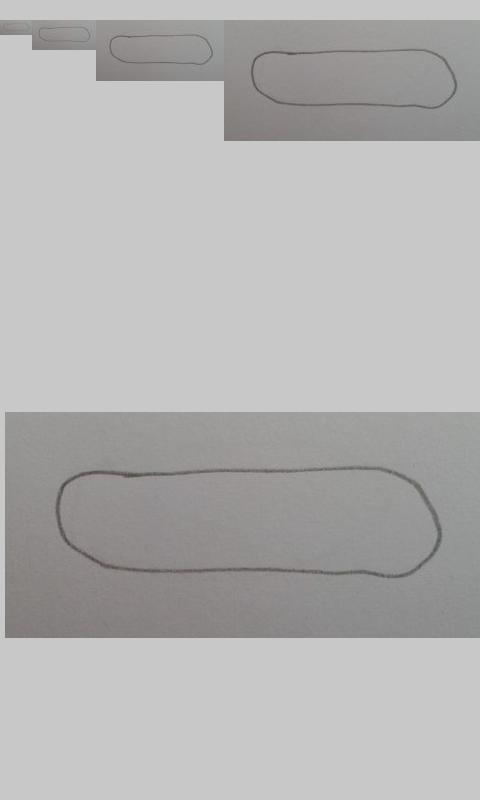chip: (56, 464, 443, 579), (251, 49, 457, 109), (109, 34, 213, 66), (38, 26, 91, 43), (3, 22, 31, 33)
